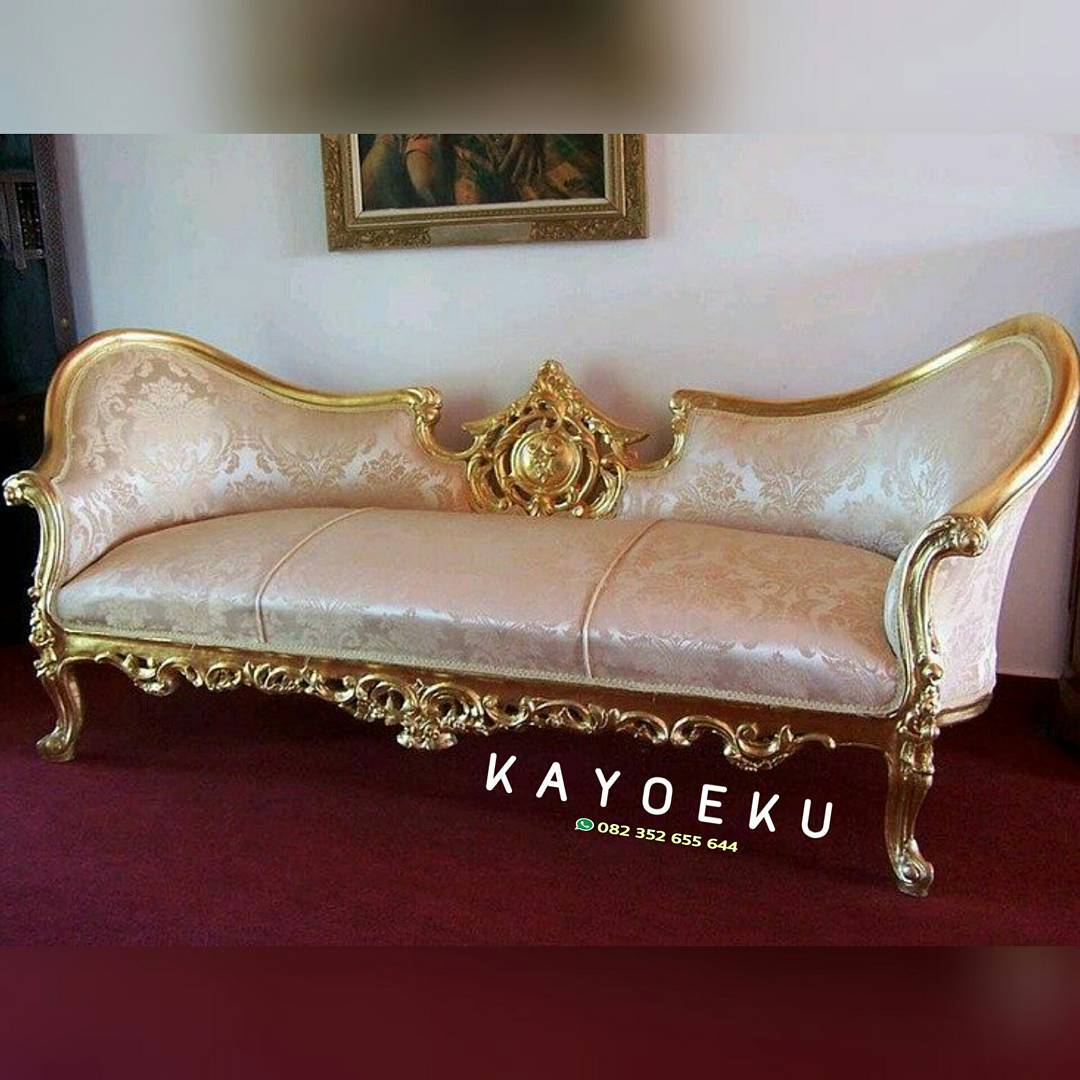Carving Chair: (25, 297, 1066, 889)
